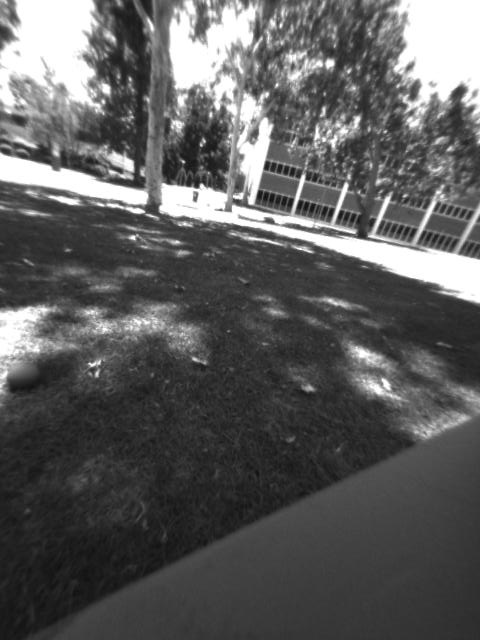dogtoy: (1, 351, 53, 401)
